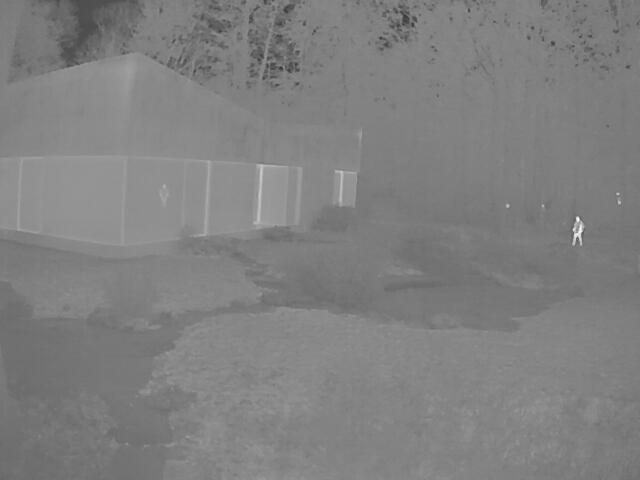person: (570, 214, 583, 248), (155, 182, 168, 207)
